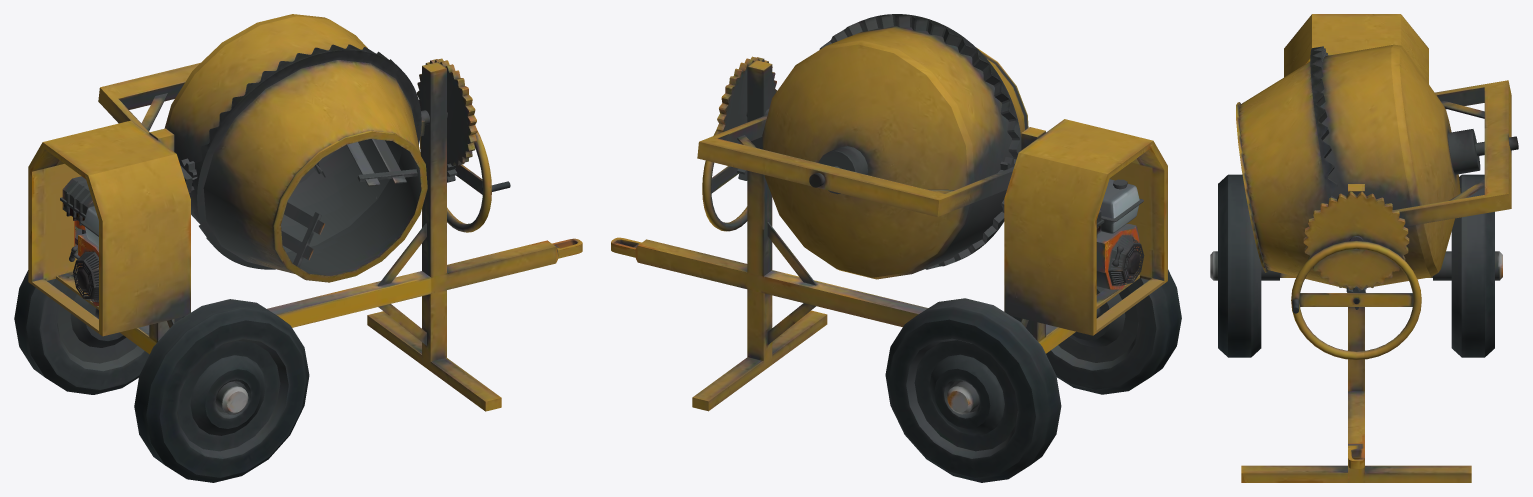
File: Betoneira.glb
3 views of the same model, side by side, from view 1: azimuth 30°, elevation 25°; view 2: azimuth 150°, elevation 25°; view 3: azimuth 270°, elevation 25° (orthographic). The views are drawn at different scales.
Visible parts, largest first — view 1: tanque, llantas, caja, base, motor, engrane, manivela; view 2: tanque, llantas, caja, base, motor, engrane, manivela; view 3: tanque, llantas, engrane, base, caja, manivela.
Boxes of the visible parts, bbox=[...] form: tanque: bbox=[98, 14, 427, 282]; llantas: bbox=[14, 270, 309, 482]; caja: bbox=[28, 120, 190, 336]; base: bbox=[120, 62, 582, 411]; motor: bbox=[60, 176, 98, 305]; engrane: bbox=[417, 58, 477, 165]; manivela: bbox=[420, 131, 510, 232]; tanque: bbox=[697, 14, 1028, 279]; llantas: bbox=[885, 269, 1181, 482]; caja: bbox=[1004, 119, 1167, 335]; base: bbox=[611, 60, 1075, 411]; motor: bbox=[1096, 179, 1144, 289]; engrane: bbox=[716, 56, 777, 133]; manivela: bbox=[702, 130, 747, 231]; tanque: bbox=[1236, 44, 1518, 292]; llantas: bbox=[1210, 174, 1502, 357]; engrane: bbox=[1303, 191, 1409, 289]; base: bbox=[1241, 184, 1471, 482]; caja: bbox=[1284, 14, 1428, 83]; manivela: bbox=[1291, 240, 1421, 359].
Bounding box in the file's own units: 2.4 × 1.63 × 1.28.
Materials: 1 (1 with a texture image).
